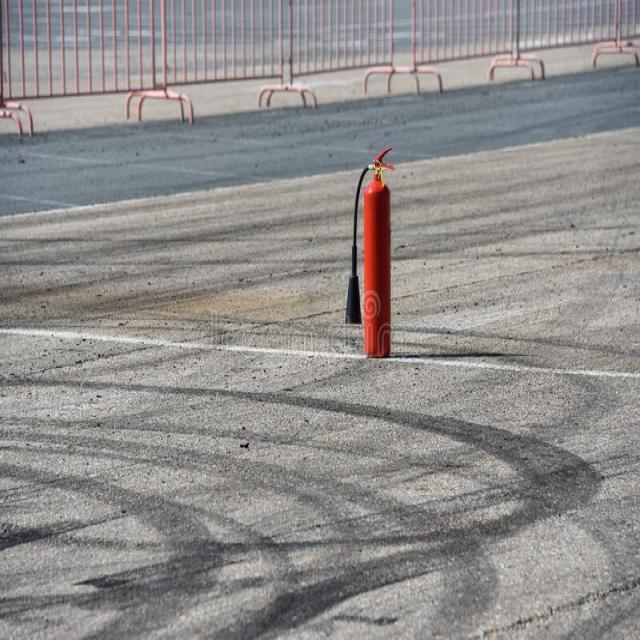fire_extinguisher: (336, 143, 414, 363)
